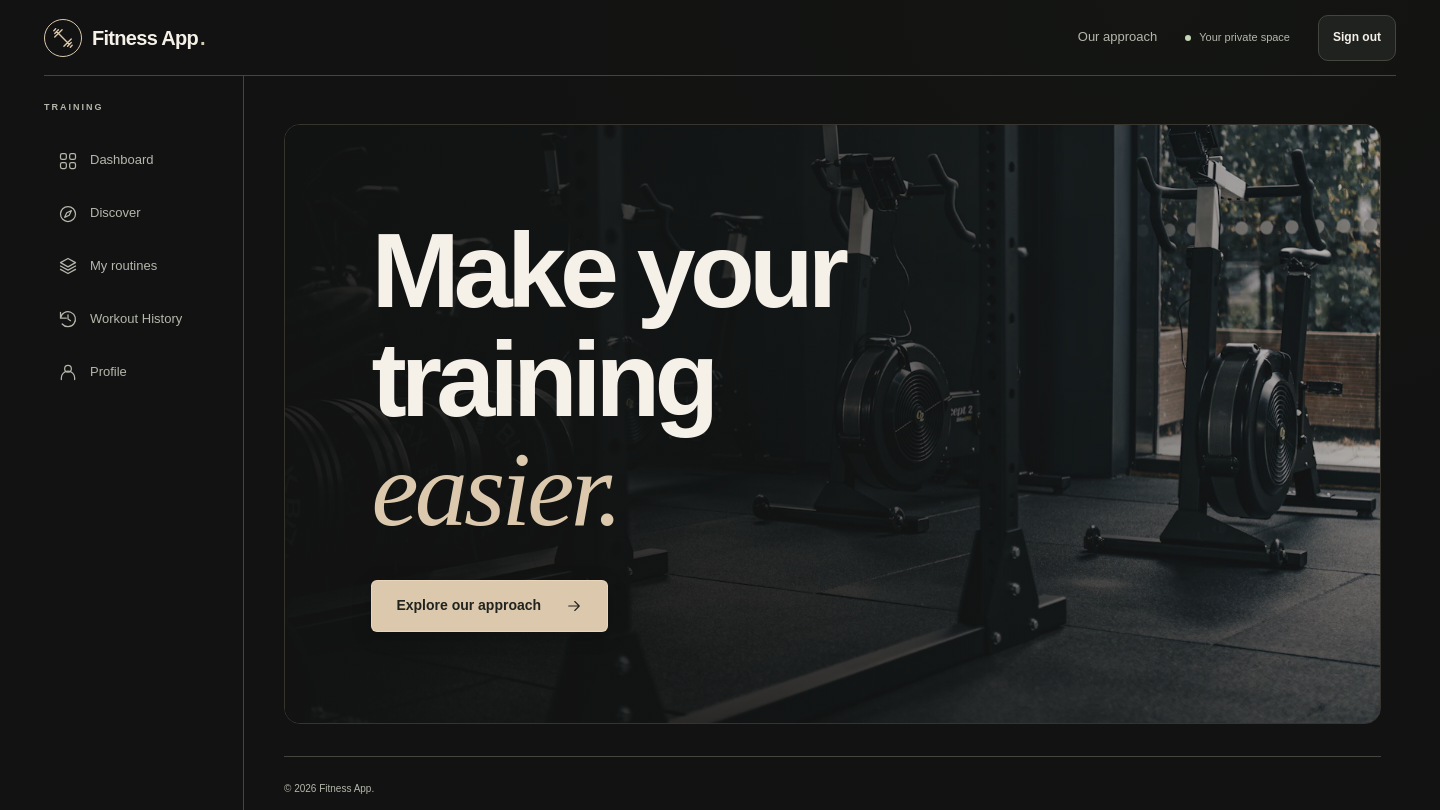
Scenario: logout uses the SDK and removes the private navigation link
Expected: the link "Profile" is shown, [58,362,127,382]
Click the button "Sign out" at (1357, 38), box [1318,14,1396,60]
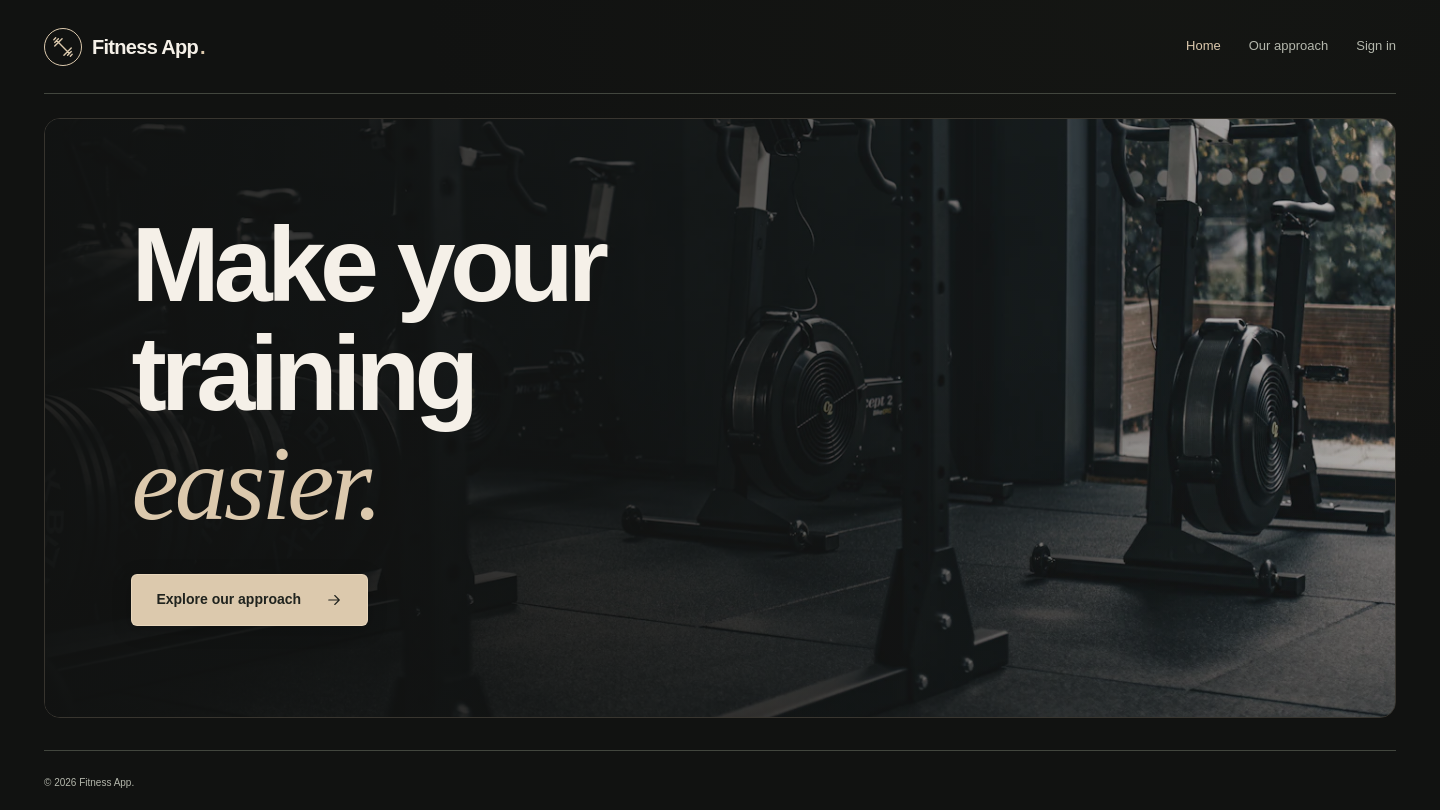
Now the link "Profile" is gone
Now the link "Sign in" is shown, box [1356,38,1396,53]
